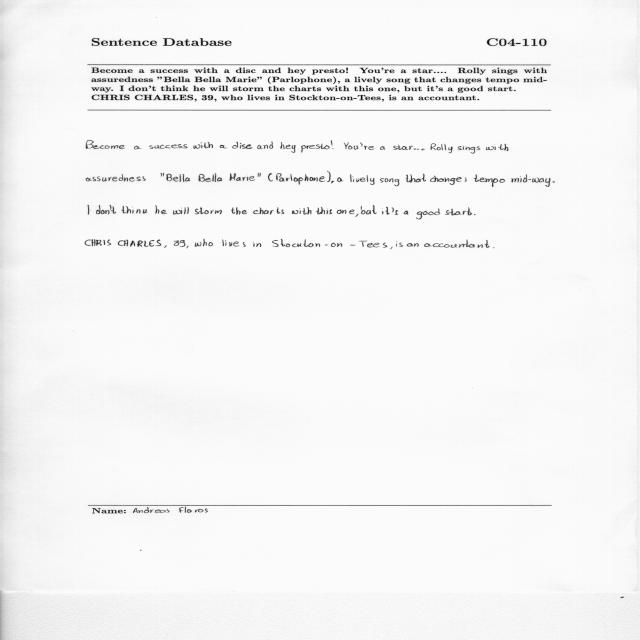word: (272, 239, 387, 248), (424, 239, 489, 248), (276, 174, 325, 185), (512, 174, 551, 187), (86, 174, 146, 182), (474, 174, 505, 187), (86, 140, 125, 149), (96, 205, 131, 215), (118, 239, 161, 247), (430, 176, 467, 185), (350, 174, 375, 185), (416, 209, 440, 220), (301, 144, 330, 153), (253, 208, 284, 215), (198, 173, 222, 182), (445, 208, 472, 216), (230, 173, 256, 181), (166, 174, 190, 182), (222, 239, 246, 247), (150, 144, 188, 149), (195, 208, 222, 215), (458, 146, 481, 154), (85, 239, 111, 246), (406, 174, 426, 183), (281, 142, 296, 153), (292, 207, 312, 215), (361, 205, 377, 215), (486, 144, 508, 151), (436, 144, 453, 153), (380, 178, 399, 186), (232, 142, 253, 149), (195, 239, 213, 247), (193, 142, 213, 149), (257, 142, 273, 150), (231, 207, 247, 215), (360, 142, 375, 150), (344, 142, 358, 150), (173, 207, 189, 214), (316, 207, 332, 214), (393, 145, 413, 150), (155, 206, 167, 214), (174, 240, 185, 247), (132, 209, 147, 214), (337, 210, 355, 214), (382, 207, 390, 215), (392, 207, 398, 215), (407, 243, 419, 247), (268, 173, 273, 182), (327, 171, 331, 182), (430, 143, 436, 150), (396, 241, 403, 247), (253, 242, 261, 247), (134, 146, 142, 150), (337, 177, 343, 182), (414, 149, 425, 151), (220, 145, 227, 148), (380, 146, 385, 150), (404, 211, 409, 215), (331, 140, 333, 149), (161, 173, 165, 177), (258, 173, 261, 177), (88, 205, 89, 215), (331, 181, 334, 184), (356, 214, 359, 217), (164, 245, 167, 248), (187, 246, 189, 248), (391, 247, 393, 249), (552, 182, 555, 183), (474, 214, 476, 215), (493, 248, 494, 249)
